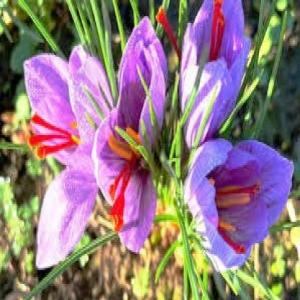Saffron: (19, 46, 117, 269), (95, 13, 168, 255), (178, 140, 296, 269), (182, 0, 252, 148)
